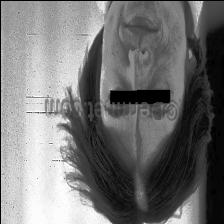Unclassified: (130, 112, 150, 172)
